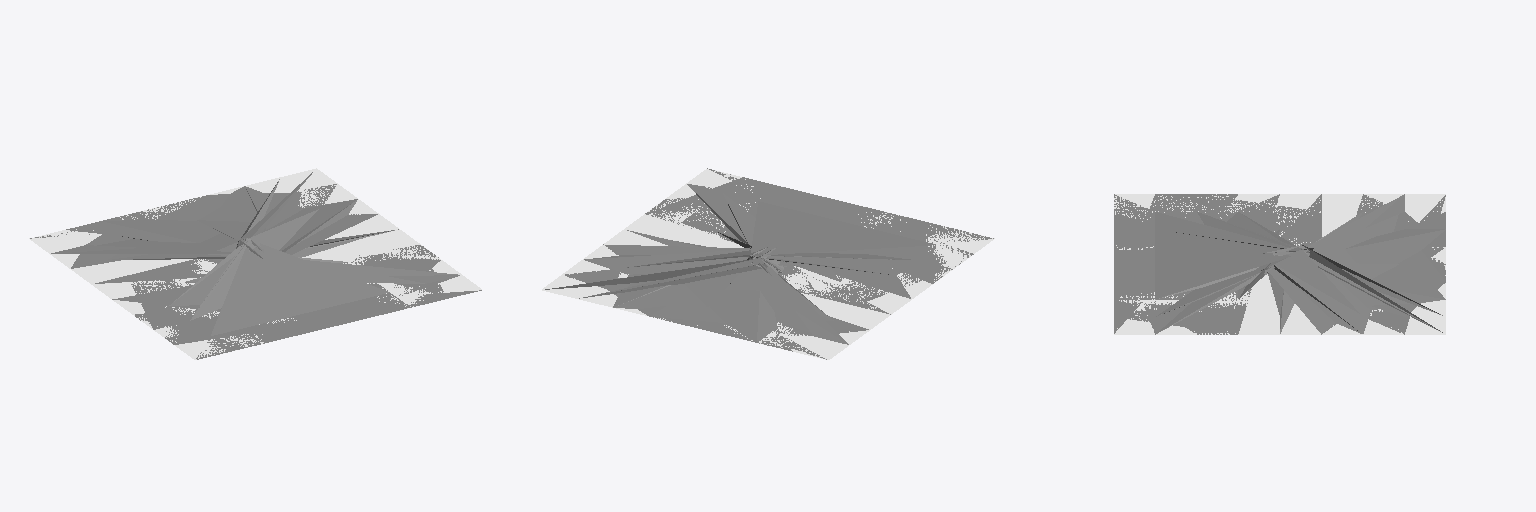
File: Frog_papermodel.obj
3 renders of one model, left to right at view 1: azimuth 30°, elevation 25°; view 2: azimuth 150°, elevation 25°; view 3: azimuth 270°, elevation 25°, orthographic.
Parts seen in each view (by area): view 1: Frog_papermodel, Ground_Plane; view 2: Frog_papermodel, Ground_Plane; view 3: Frog_papermodel, Ground_Plane.
Boxes of the visible parts, x1,y1,x2,y2 form: Frog_papermodel: [30, 172, 481, 359]; Ground_Plane: [29, 168, 481, 359]; Frog_papermodel: [545, 168, 993, 359]; Ground_Plane: [542, 169, 994, 359]; Frog_papermodel: [1114, 194, 1445, 334]; Ground_Plane: [1114, 194, 1445, 334].
Size of the model in its own units: 9000 by 516 by 9000.